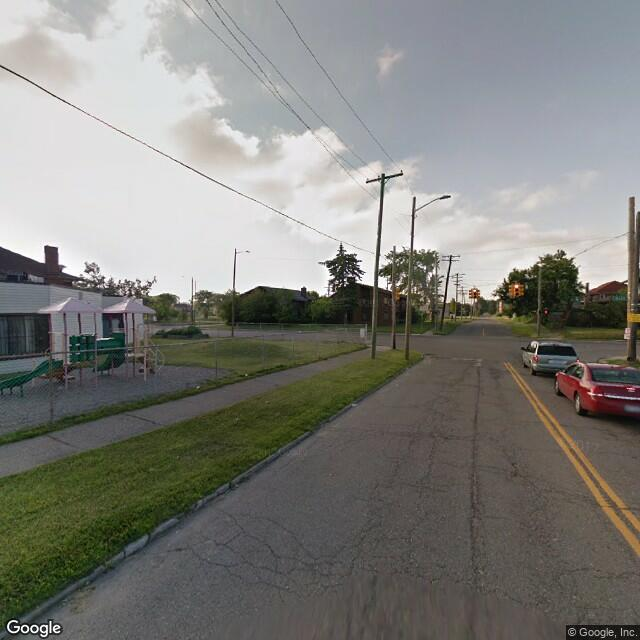litter: (351, 400, 361, 407), (243, 370, 249, 378), (195, 383, 203, 389)
